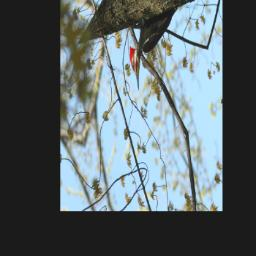Woodpecker: (122, 0, 190, 96)
